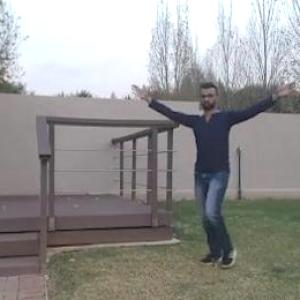takeoff: (138, 85, 300, 274)
